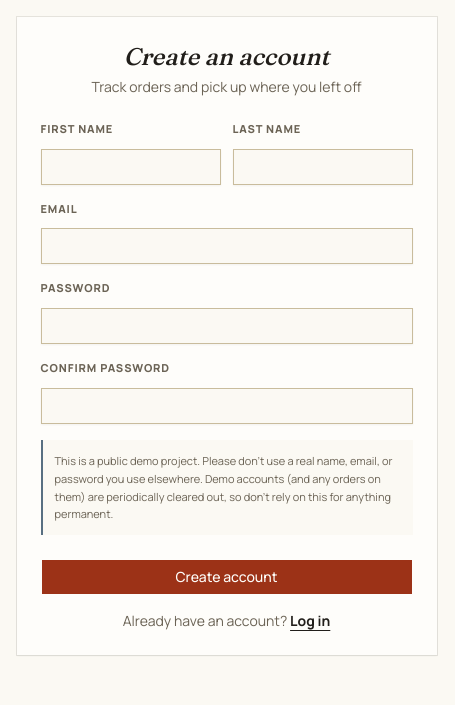
Scenario: RegisterForm › maps a 409 email-taken error onto the email field
Type "Given Name Field" into the field labelled "First name". click: (130, 167)
box: [40,149,220,185]
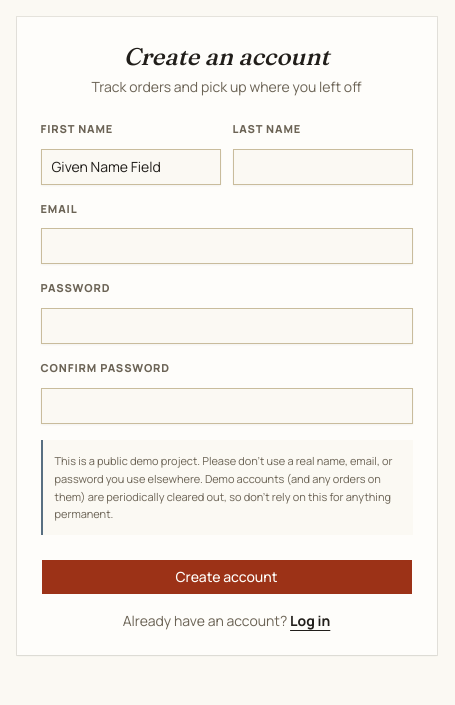
Type "Family Name Field" into the field labelled "Last name". click: (322, 167)
box: [232,149,412,185]
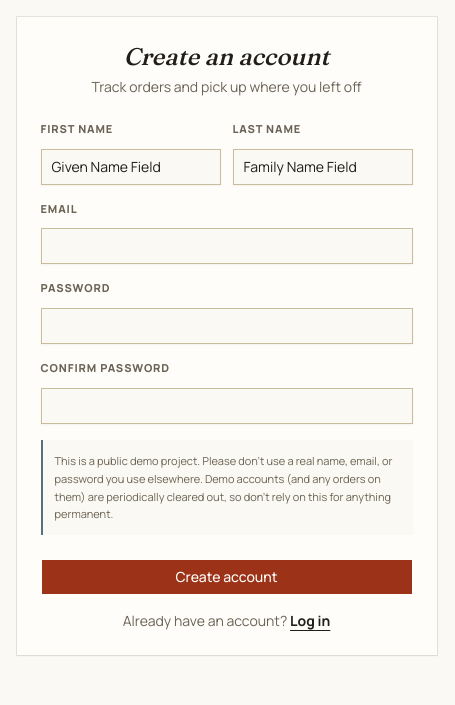
Type "user@example.com" into the field labelled "Email". click: (226, 246)
box: [40,228,412,264]
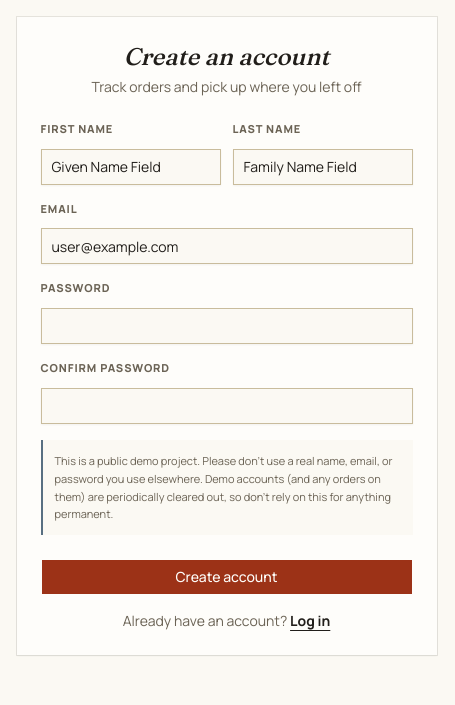
Type "Str0ng!Pass" into the password field labelled "Password". click: (226, 326)
box: [40,308,412,344]
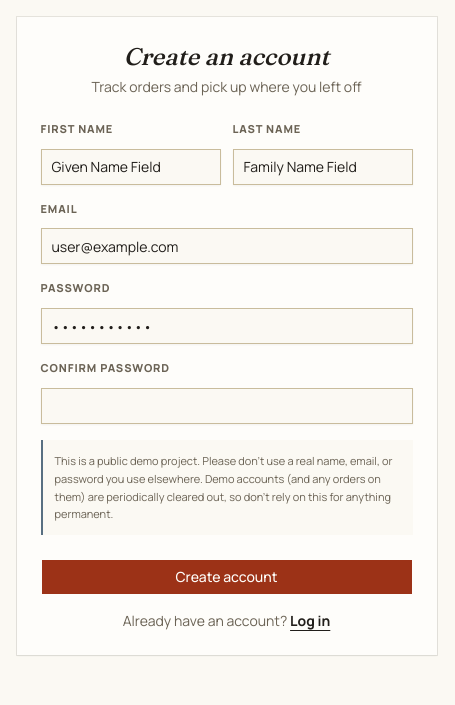
Type "Str0ng!Pass" into the password field labelled "Confirm password". click: (226, 406)
box: [40,388,412,424]
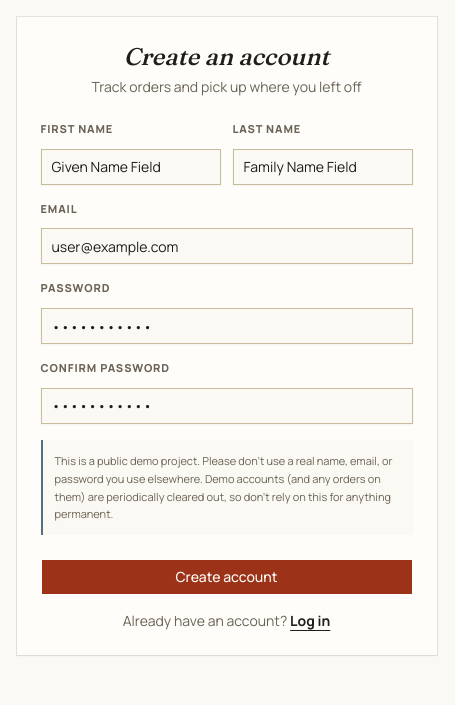
Click the button "Create account". click: (226, 577)
box: [40,559,412,595]
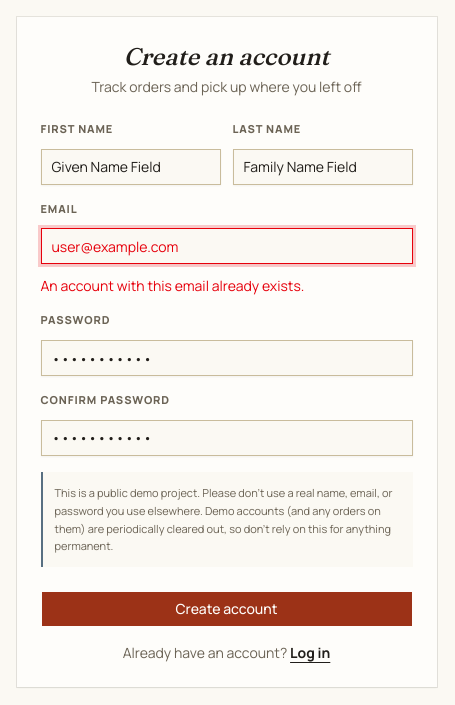
Expected: the text "An account with this email already exists." is shown, [40,276,304,295]
